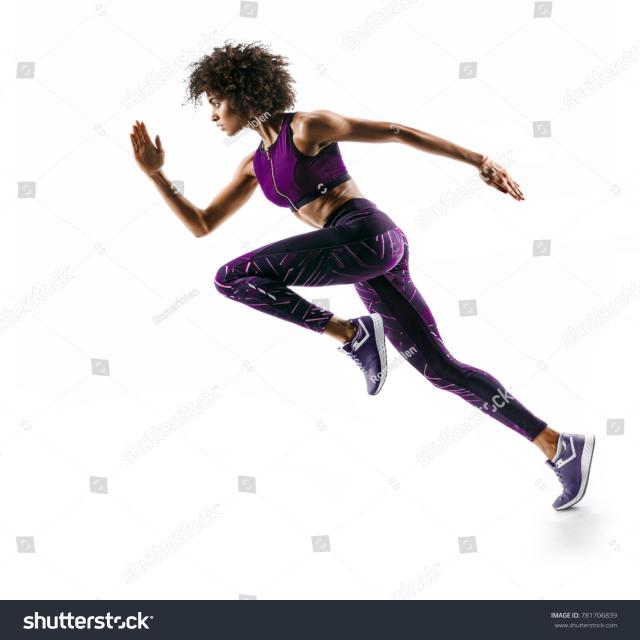running: (122, 36, 604, 514)
